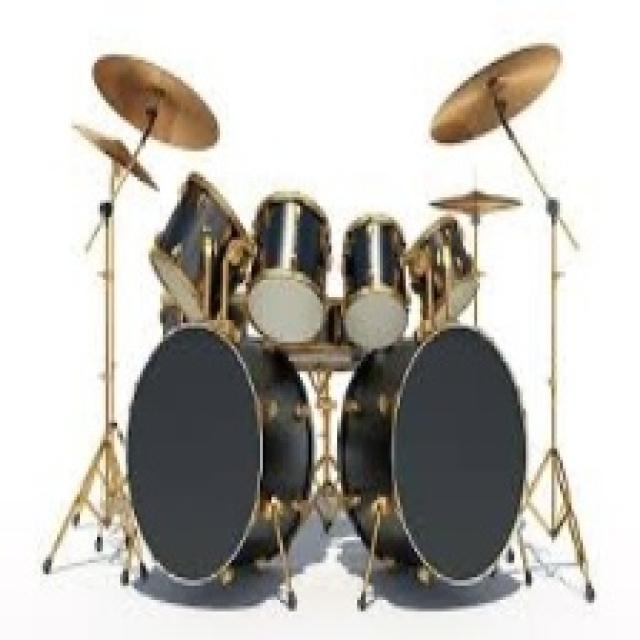drums: (36, 38, 605, 617)
